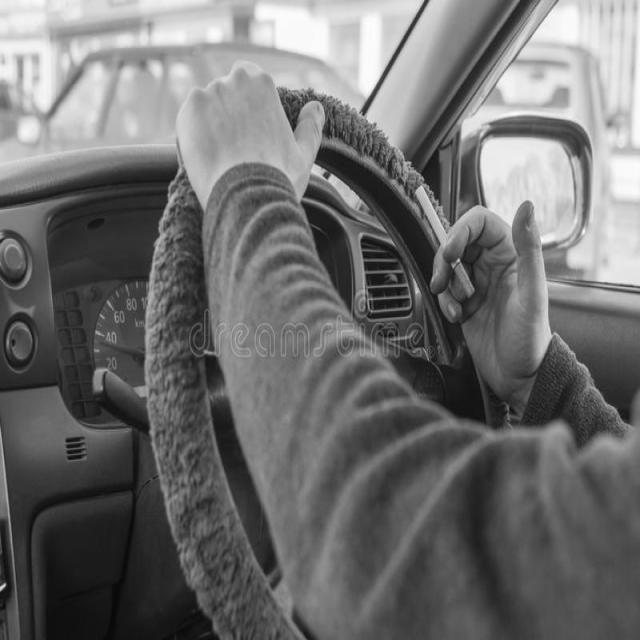Cigarette: (411, 182, 477, 297)
